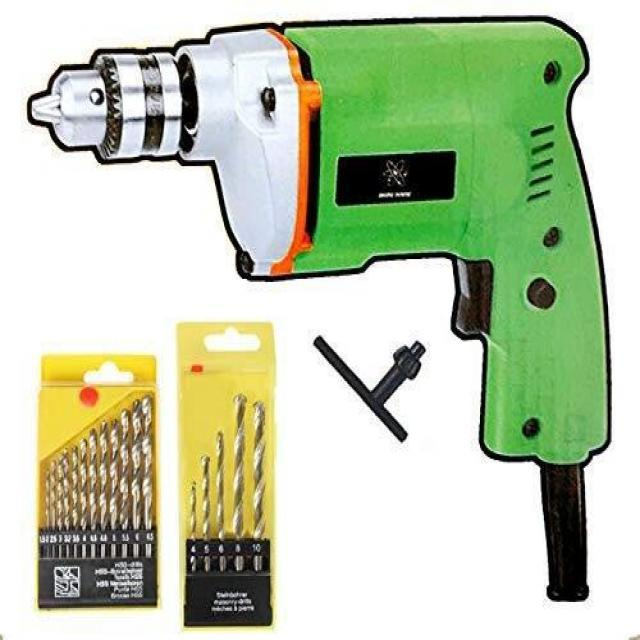drill: (28, 15, 612, 602)
